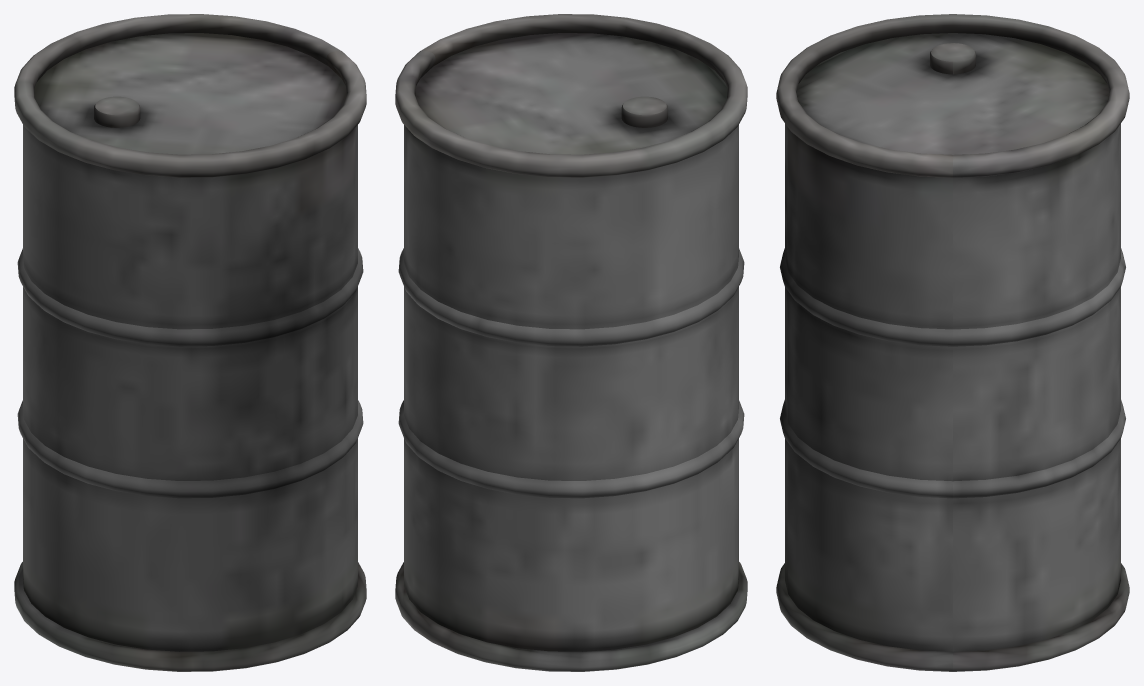
Rendered from hazard-drum--3.gltf.
The picture shows the model from 3 angles, left to right: view 1: azimuth 30°, elevation 25°; view 2: azimuth 150°, elevation 25°; view 3: azimuth 270°, elevation 25°; orthographic projection.
Parts seen in each view (by area): view 1: Cylinder.059; view 2: Cylinder.059; view 3: Cylinder.059.
Part boxes in pixels (<box>): Cylinder.059: <box>14,14,366,671</box>; Cylinder.059: <box>395,14,747,671</box>; Cylinder.059: <box>776,14,1129,671</box>.
Bounding box in the file's own units: 0.5621 × 0.9 × 0.5621.
Materials: 1 (1 with a texture image).
